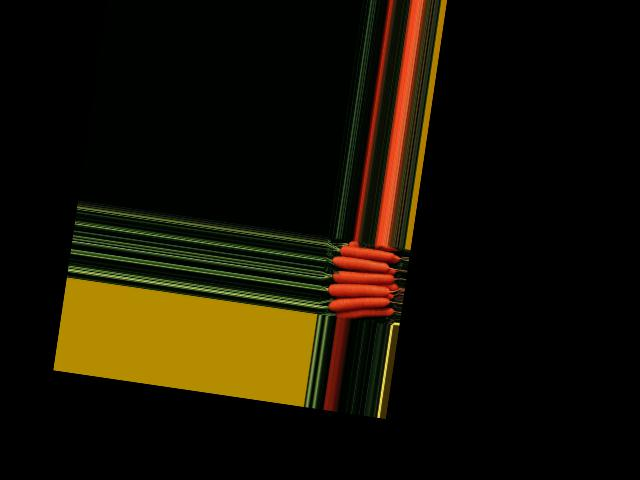carrot: (333, 298, 393, 325)
